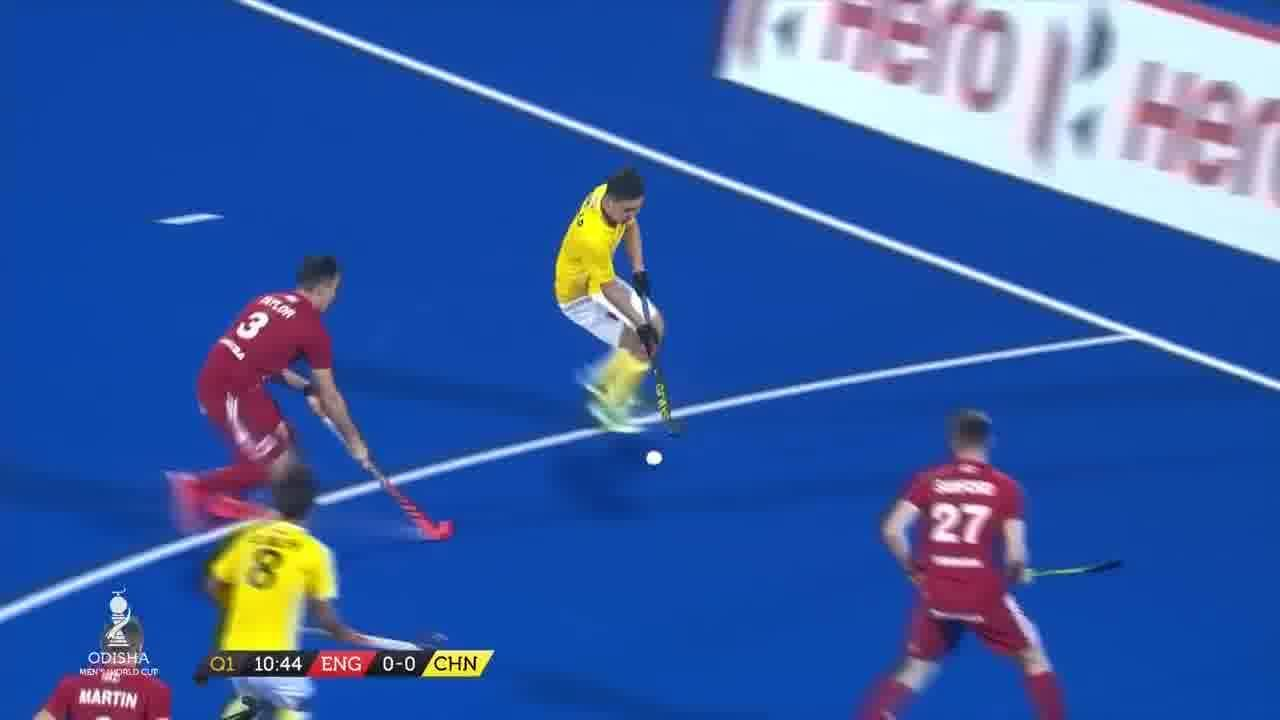ball: (645, 443, 665, 472)
